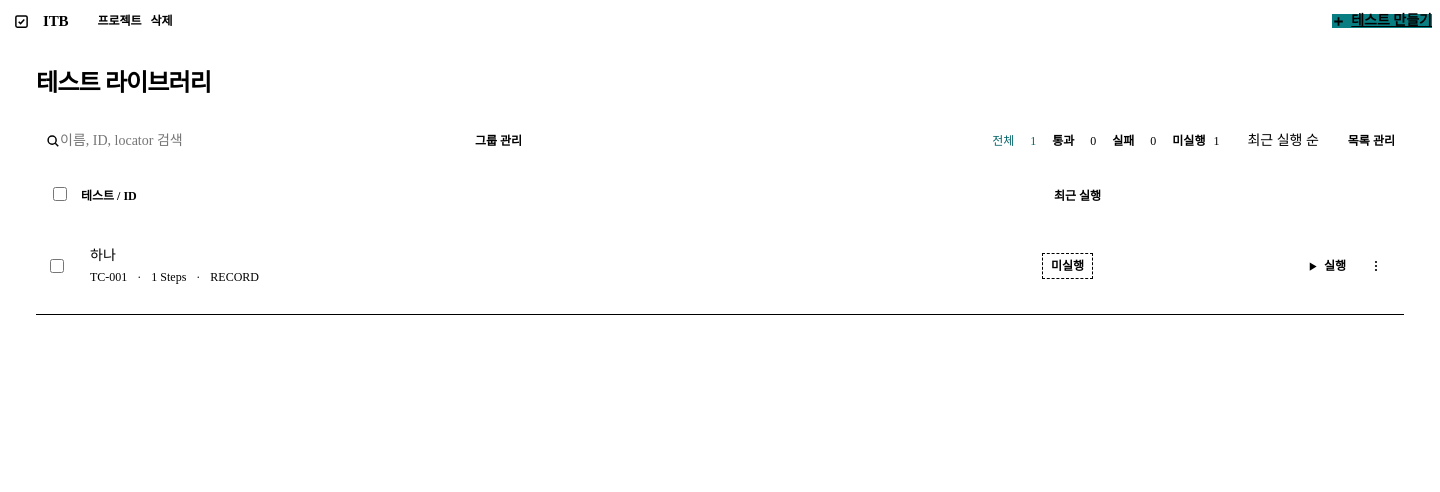
Test: 한 개 삭제도 결과를 그린다 (SC-632) › 옮겨진 자리가 화면에 남는다 — 그 값이 되돌리는 방법 전부다
The image size is (1440, 492).
Step 1. Click the button named "하나 추가 동작" → coordinates (1376, 266), box x1=1362 y1=258 x2=1390 y2=274
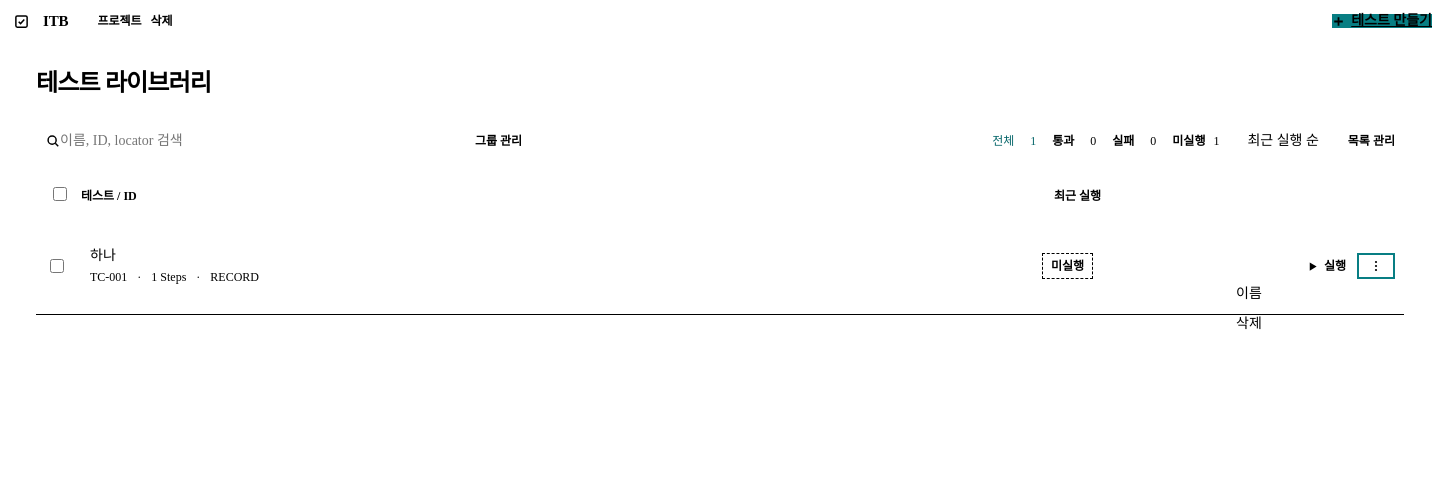
Check: the menu is shown, box x1=1236 y1=286 x2=1262 y2=331
Step 2. Click the menu item "삭제" → coordinates (1249, 324), box x1=1236 y1=316 x2=1262 y2=331
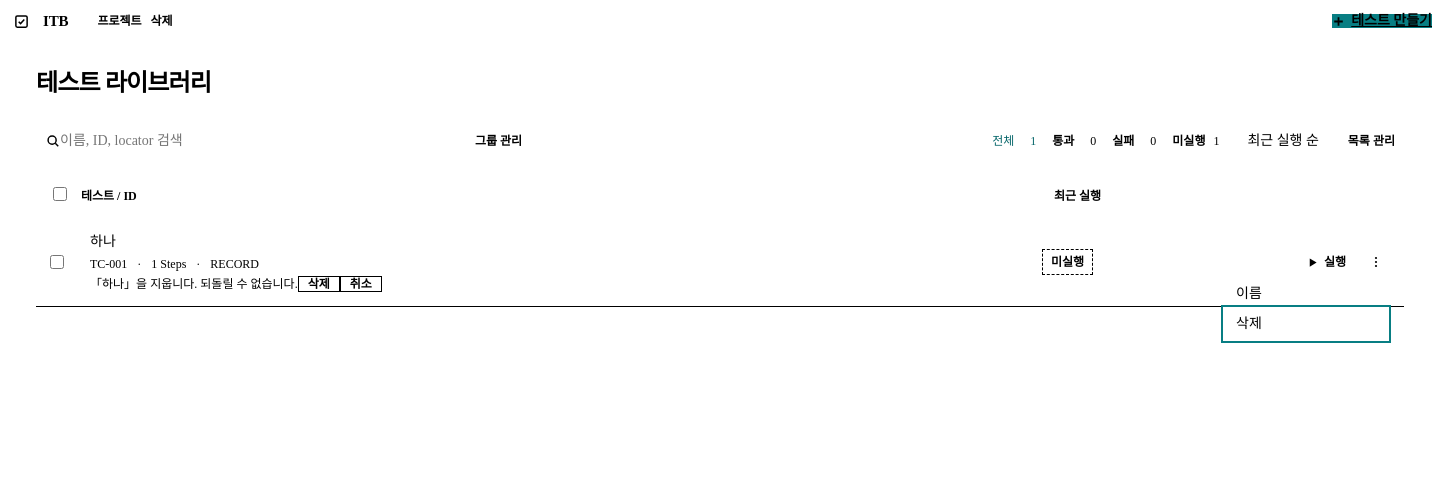
Step 3. Click the button "삭제" → coordinates (319, 284), box x1=298 y1=276 x2=340 y2=292
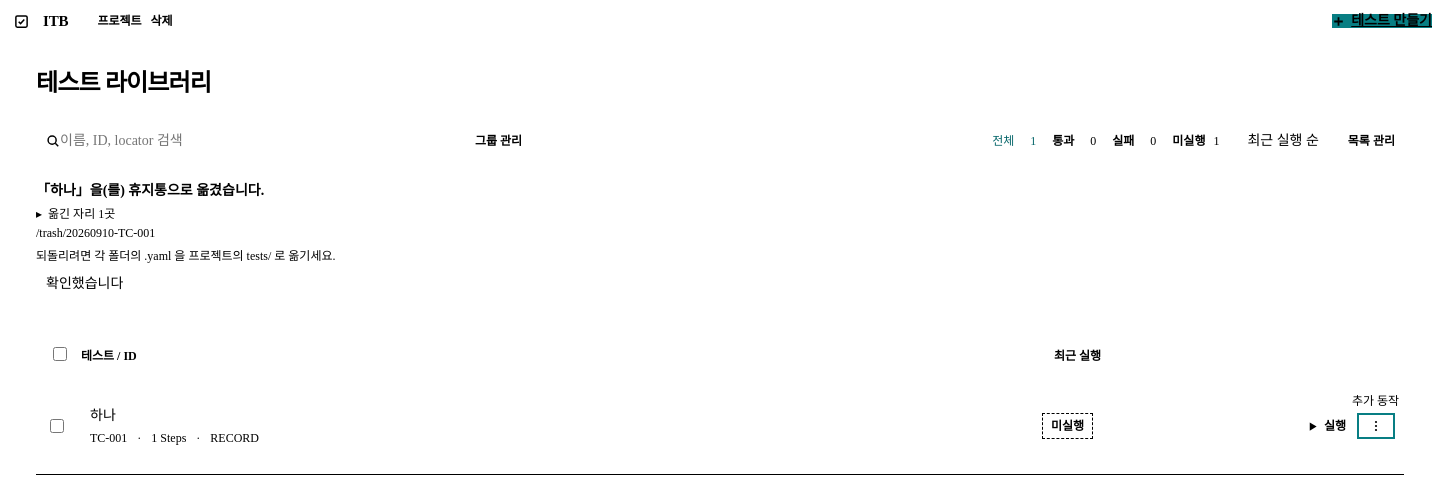
Check: the message is shown, box x1=36 y1=183 x2=336 y2=298
Check: the text "/trash/20260910-TC-001" is shown, box x1=36 y1=226 x2=155 y2=240
